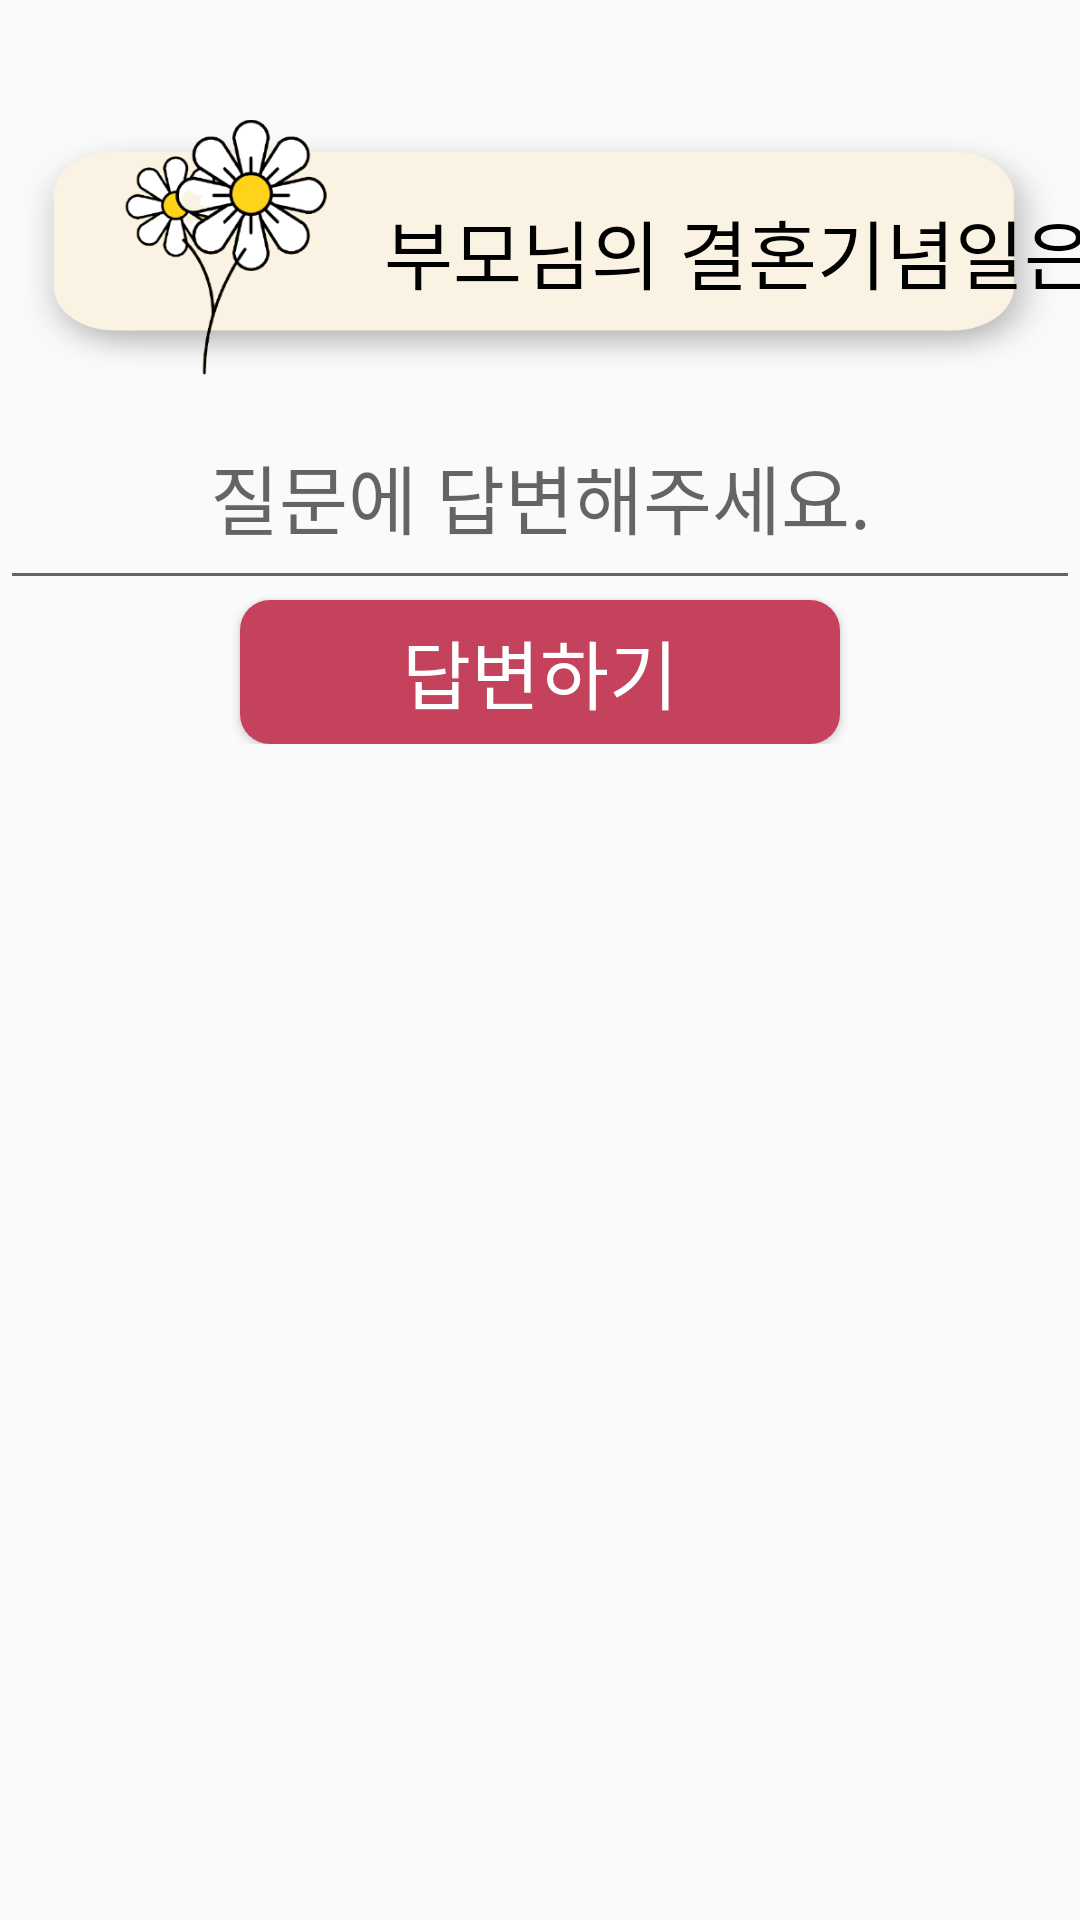

Screen size 1080 × 1920. Icon name, then its box in pixels as box=[x1, y1, x2, y2]:
flowerdaisy: box=[60, 120, 384, 375]
